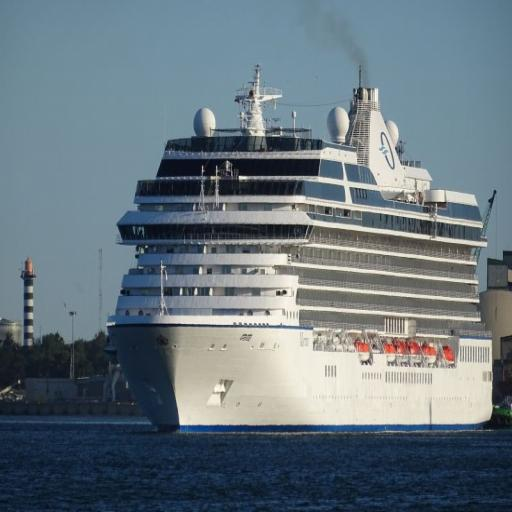cruises: (106, 64, 498, 442)
